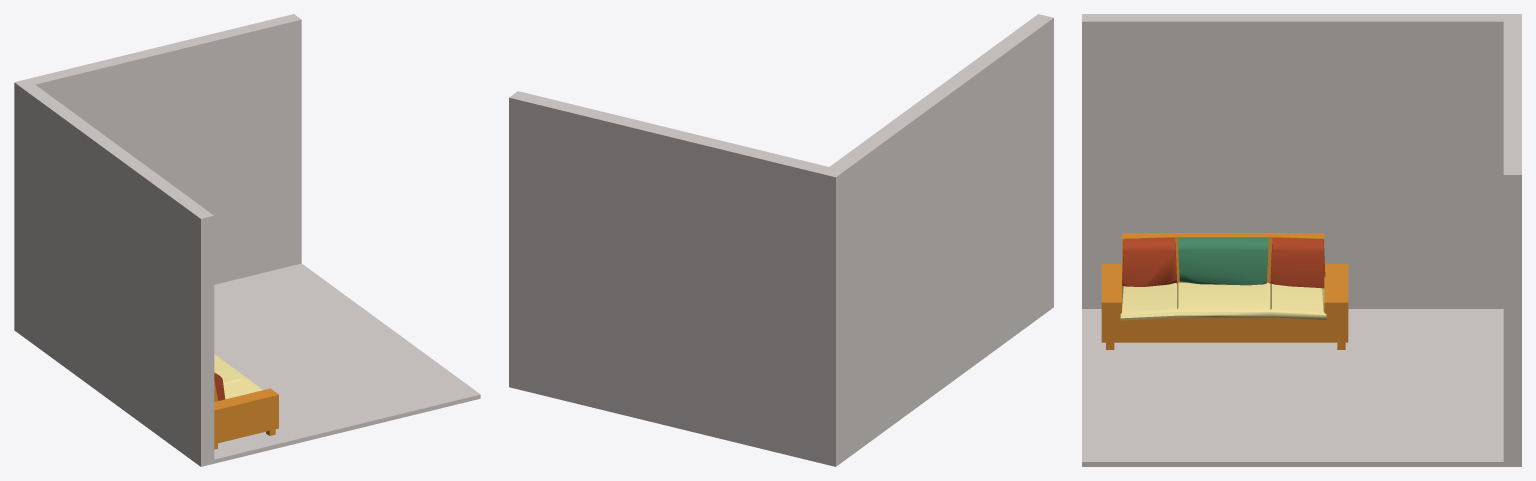
File: SonSahne.fbx
3 views of the same model, side by side, from view 1: azimuth 30°, elevation 25°; view 2: azimuth 150°, elevation 25°; view 3: azimuth 270°, elevation 25° (orthographic). The views are drawn at different scales.
Parts seen in each view (by area): view 1: Ev, Koltuk; view 2: Ev; view 3: Ev, Koltuk.
Part boxes in pixels (x1,y1,x2,y2): Ev: (14,14,480,466); Koltuk: (214,354,278,449); Ev: (509,14,1053,466); Ev: (1082,14,1521,466); Koltuk: (1101,233,1348,349).
Bounding box in the file's own units: 210 × 178 × 243.
